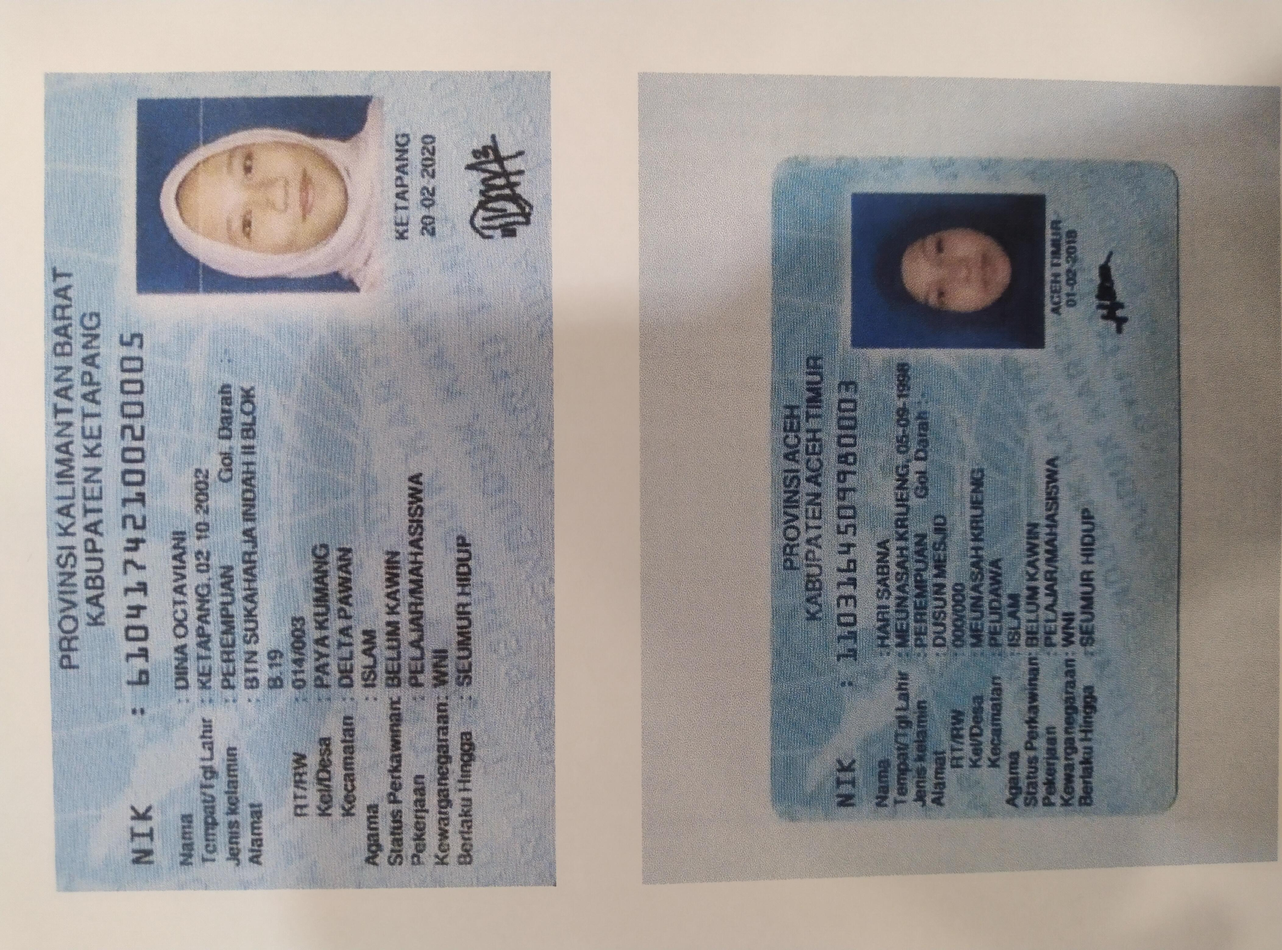ID-card: (41, 70, 556, 892), (775, 157, 1172, 816)
